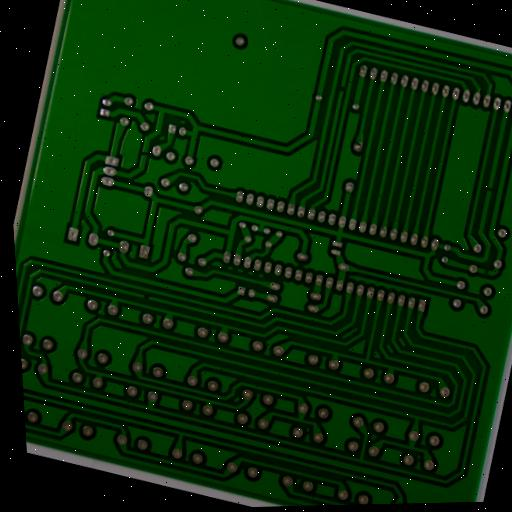open_circuit: (478, 264, 492, 279), (481, 181, 495, 195), (335, 81, 347, 97), (137, 146, 151, 159), (138, 291, 153, 303)
